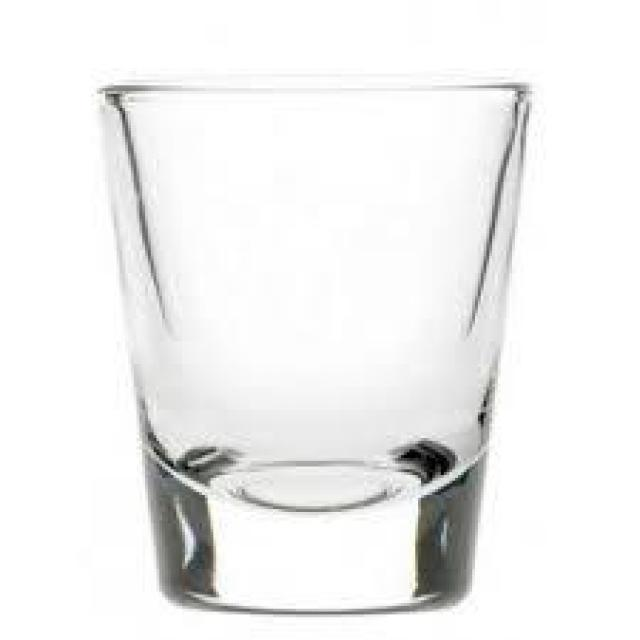glass: (96, 82, 534, 618)
